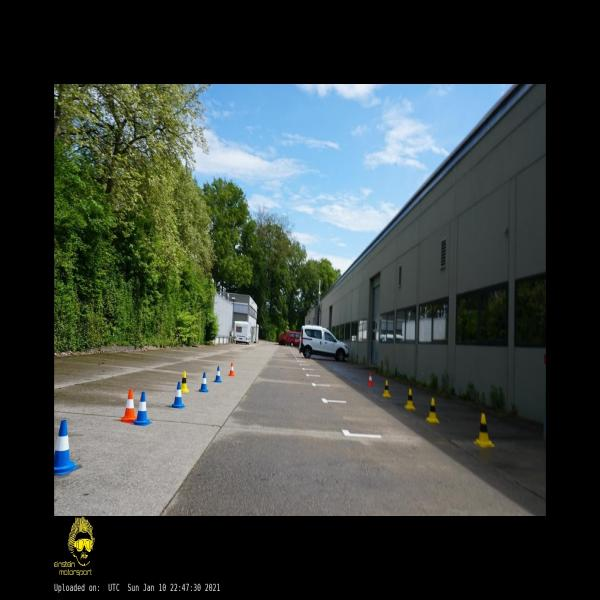blue_cone: (54, 420, 78, 475), (134, 392, 151, 425), (172, 382, 184, 408), (199, 372, 208, 392), (214, 366, 222, 382)
orange_cone: (121, 390, 136, 423), (228, 362, 234, 377), (368, 373, 372, 386)
yellow_cone: (474, 414, 494, 448), (426, 397, 440, 424), (404, 388, 416, 410), (382, 380, 391, 398), (182, 372, 189, 392)
